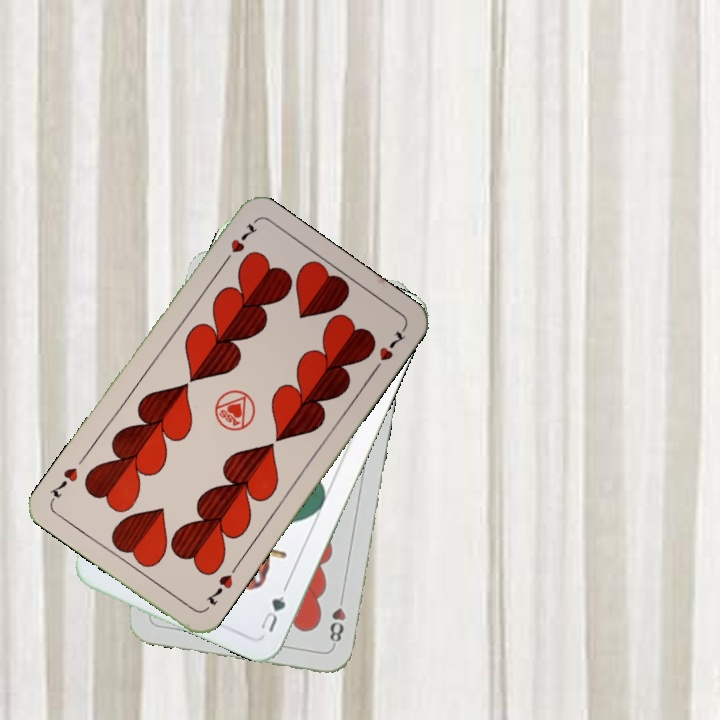GU: (257, 591, 288, 636)
H7: (218, 218, 261, 269), (202, 561, 241, 608)
H8: (325, 590, 348, 649)
